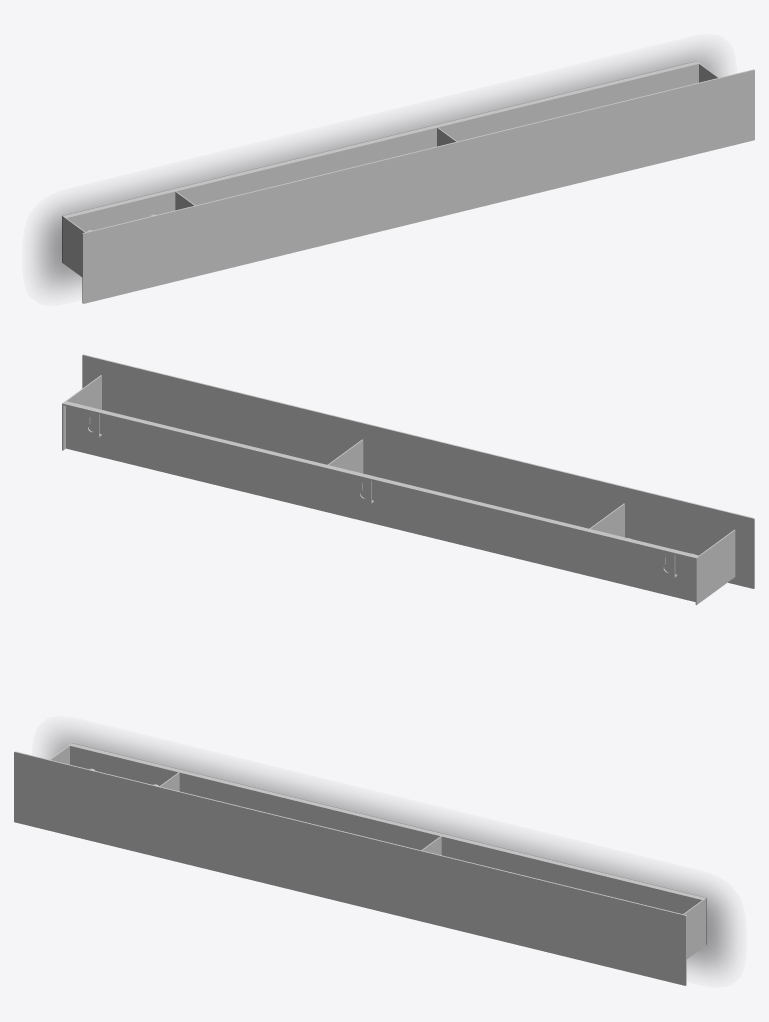
File: skyline-patron.1bd7bb34c4.ar.glb
The picture shows the model from 3 angles, top to bottom: view 1: azimuth 30°, elevation 25°; view 2: azimuth 150°, elevation 25°; view 3: azimuth 330°, elevation 25°; orthographic projection.
Visible parts, largest first — view 1: NAUO1, object 2; view 2: NAUO1; view 3: NAUO1, object 2.
Part boxes in pixels (x1,y1,x2,y2): NAUO1: (62, 61, 754, 303); object 2: (36, 51, 722, 288); NAUO1: (62, 354, 754, 604); NAUO1: (14, 743, 706, 985); object 2: (46, 733, 732, 970).
Size of the model in its own units: 0.98 by 0.17 by 0.092.
Materials: 2 (1 with a texture image).
